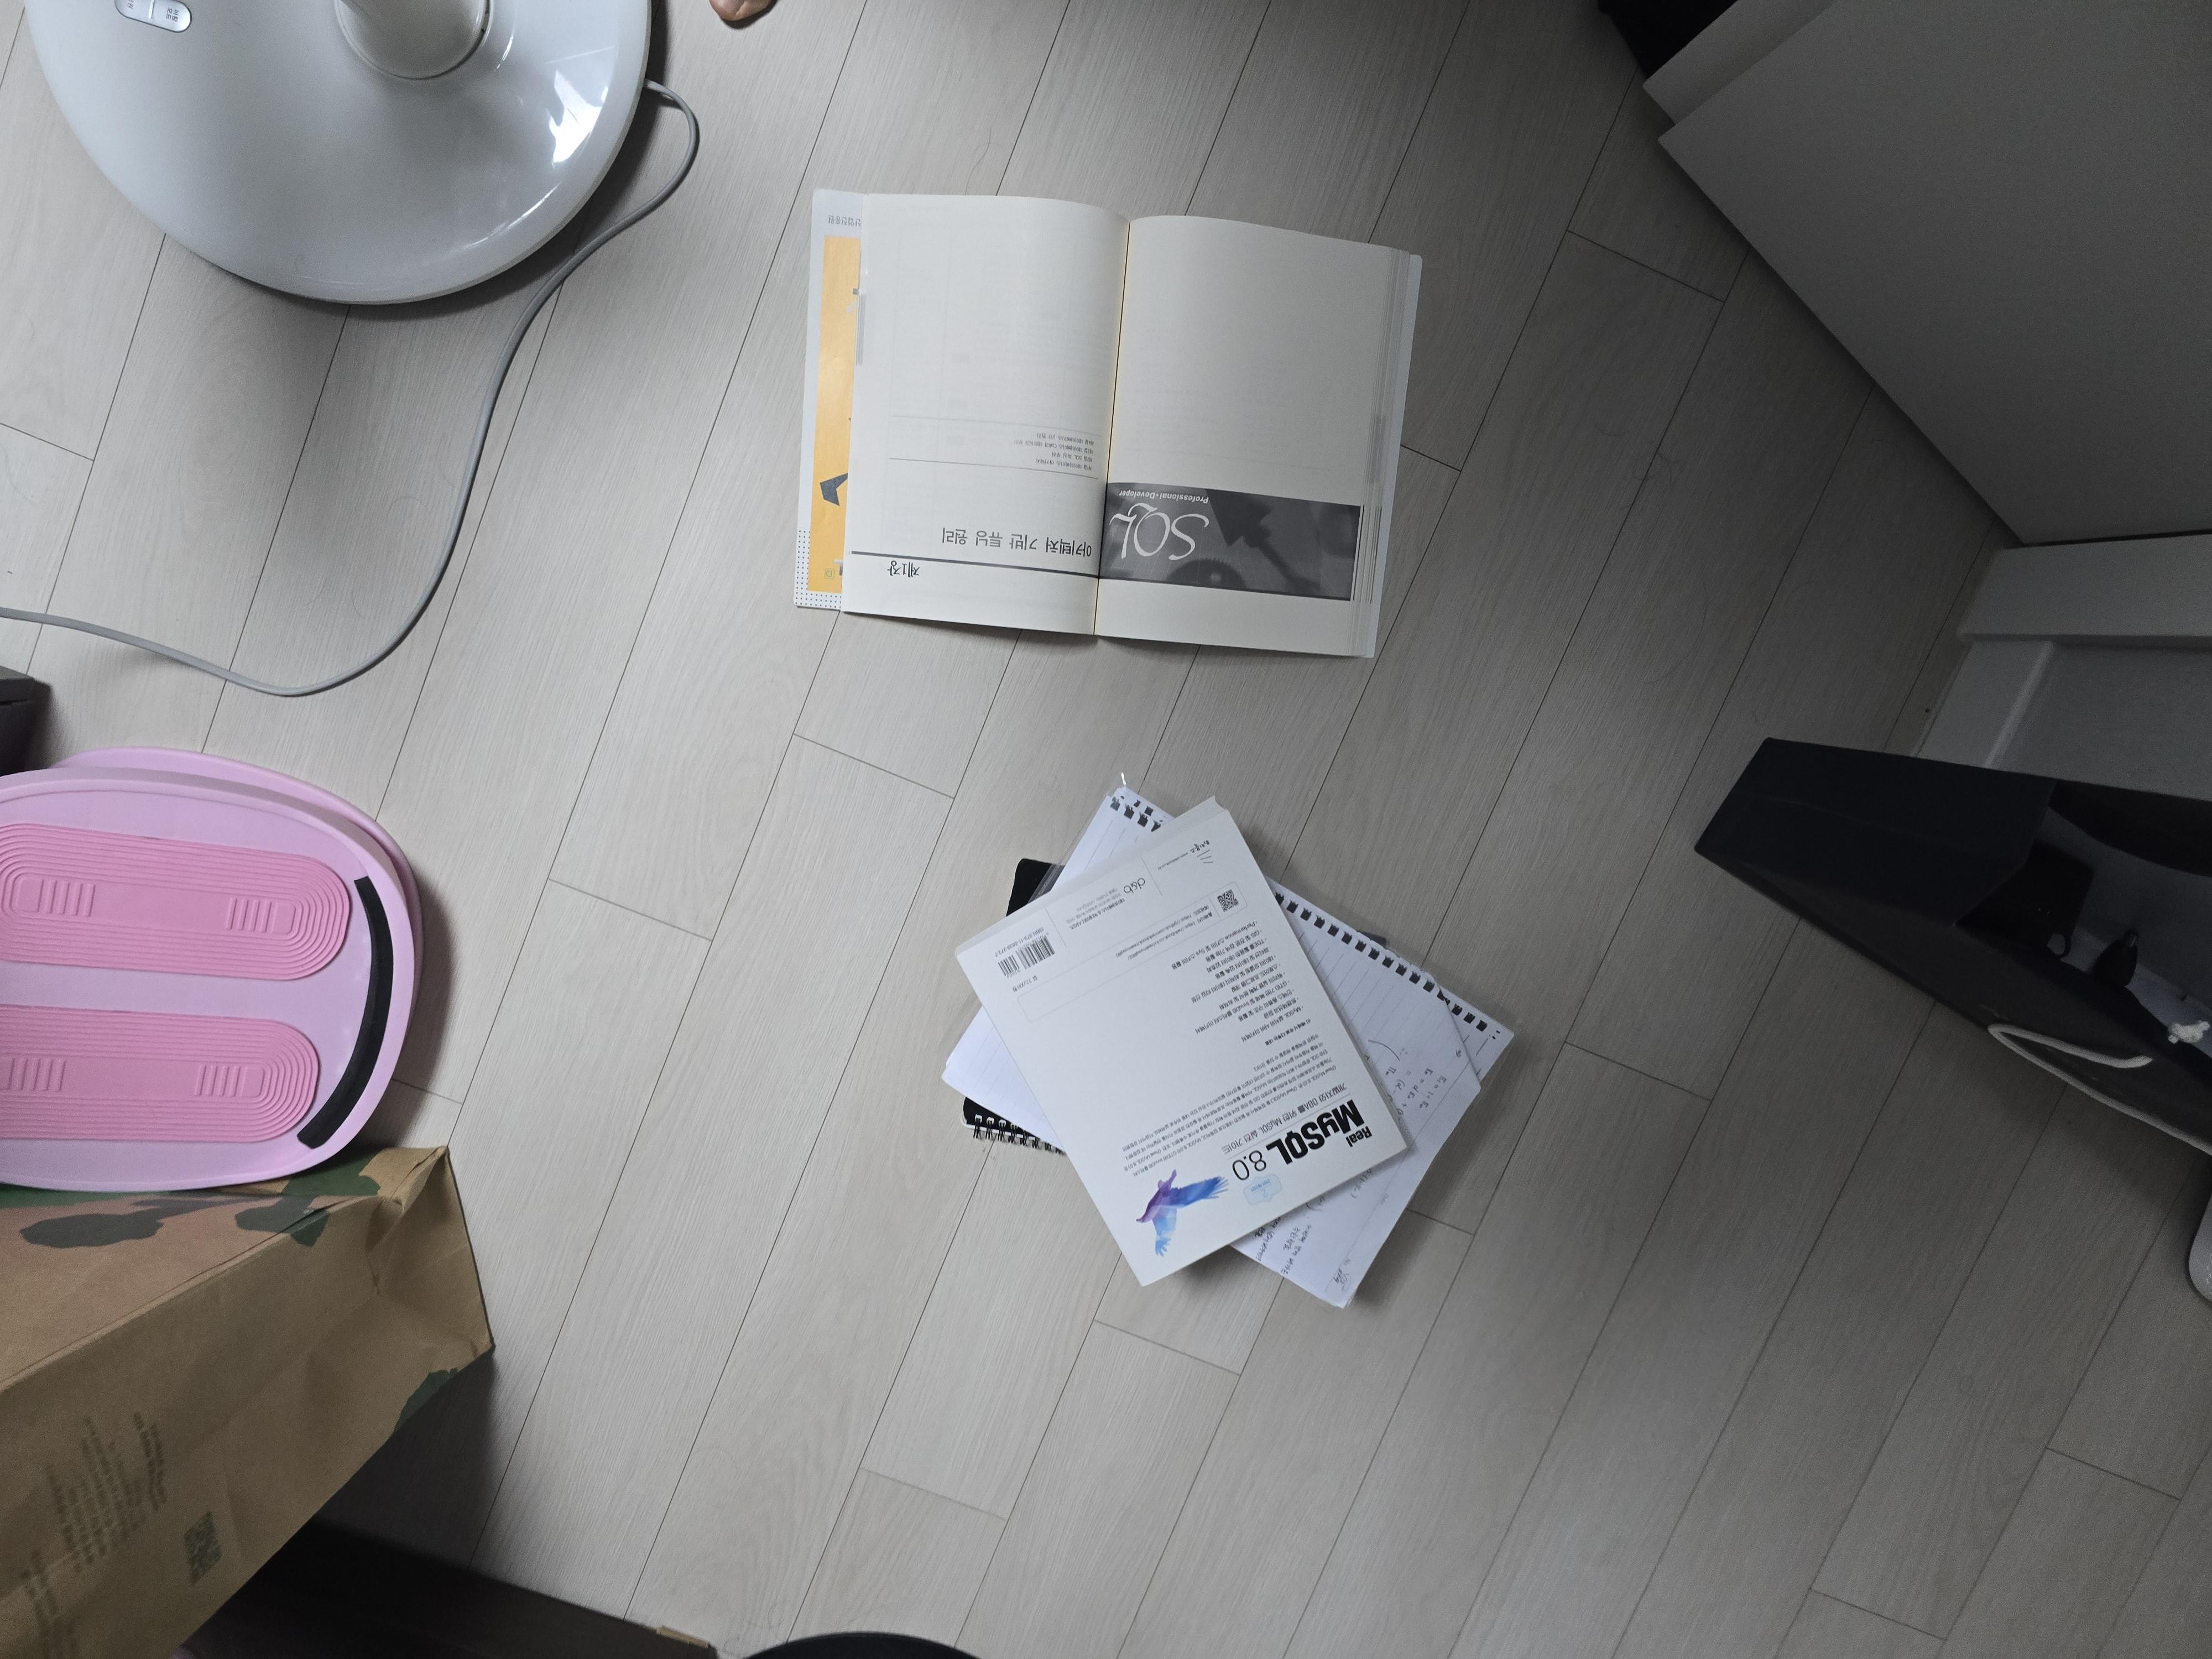book: (921, 788, 1519, 1314), (791, 186, 1423, 660)
